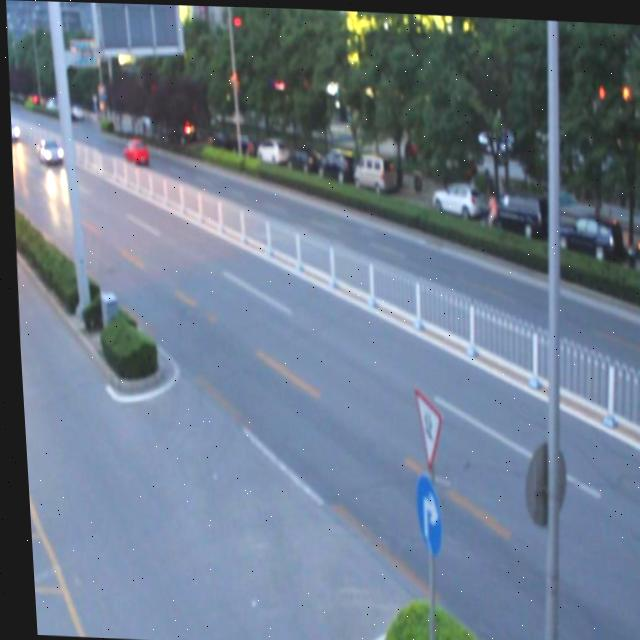car: (121, 134, 148, 163)
